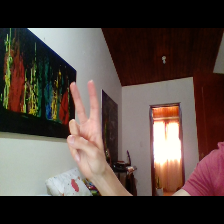KP: (61, 77, 111, 178)
